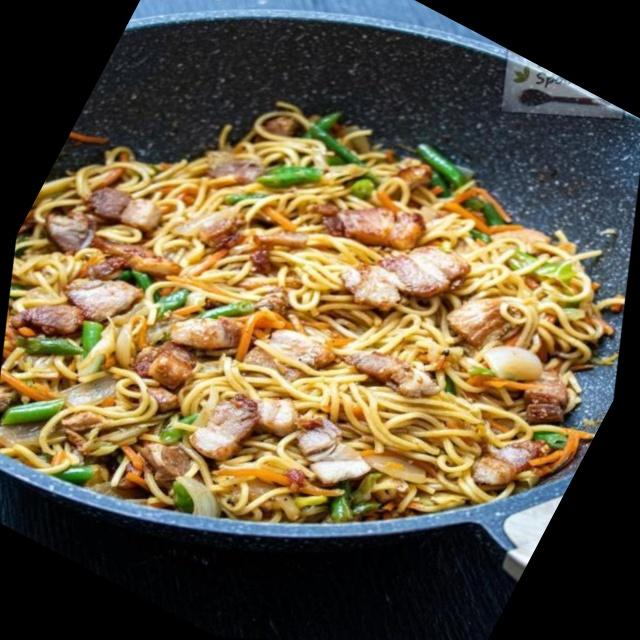pancit bihon: (0, 114, 612, 523)
